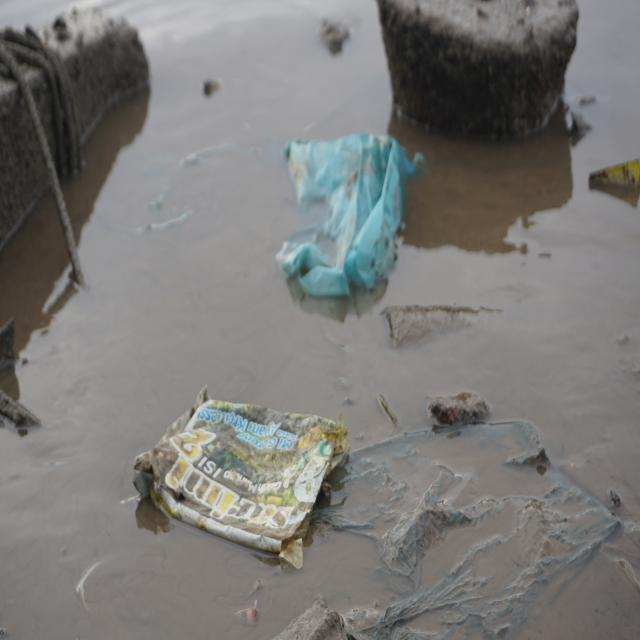Bungkus Makanan: (133, 386, 350, 569)
Kantong Plastik: (279, 131, 426, 303)
